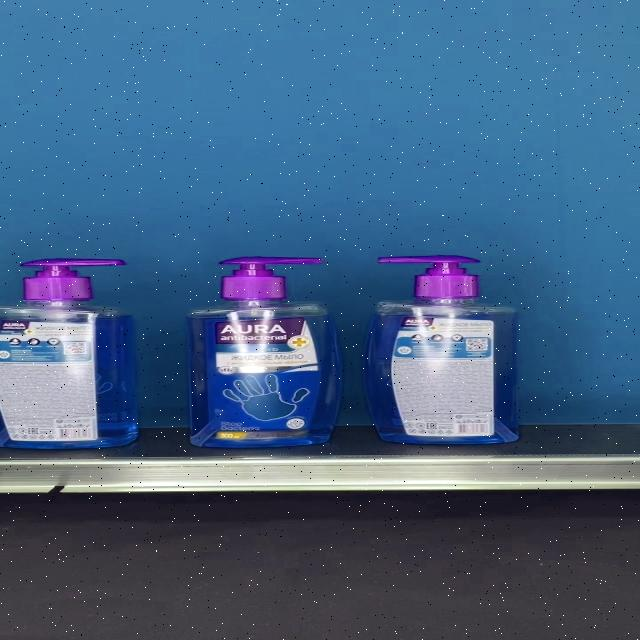Bottle: (187, 257, 343, 446), (364, 256, 520, 444), (0, 260, 139, 448)
Cap: (219, 257, 323, 300), (377, 256, 480, 299), (21, 260, 126, 302)
